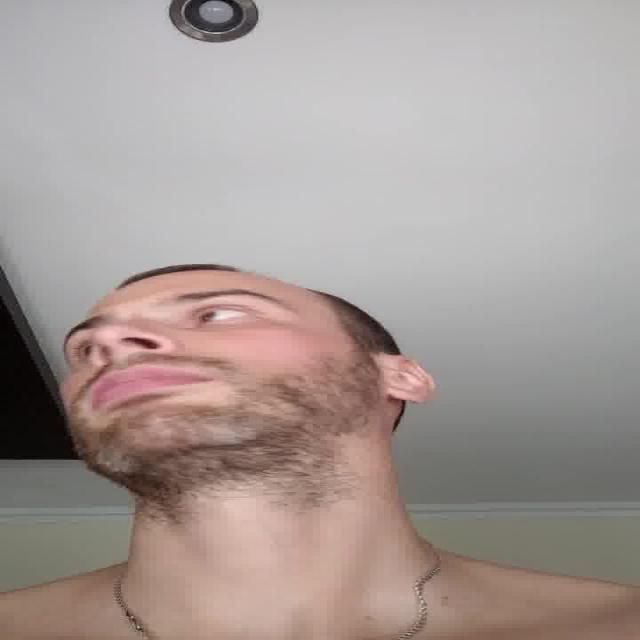earlobe: (384, 388, 434, 404)
eye: (186, 304, 260, 328), (70, 340, 96, 365)
nose: (89, 344, 178, 374)
wholeear: (382, 352, 432, 403)
